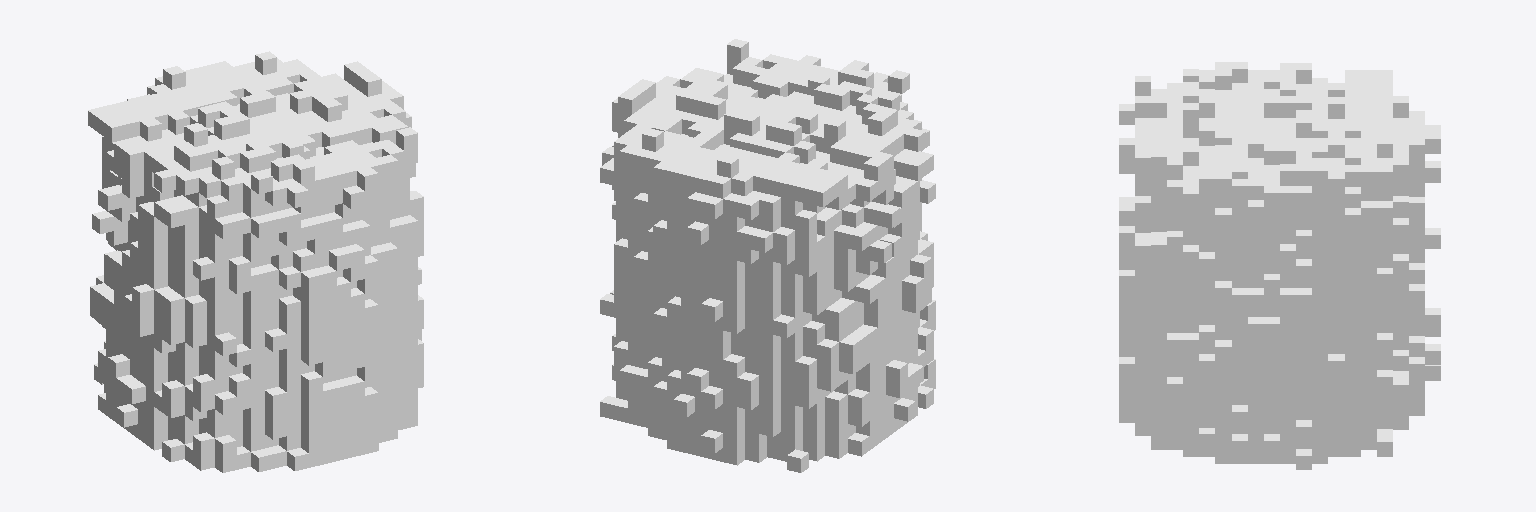
File: enemybulletmodel.obj
3 views of the same model, side by side, from view 1: azimuth 30°, elevation 25°; view 2: azimuth 150°, elevation 25°; view 3: azimuth 270°, elevation 25° (orthographic).
Size of the model in its own units: 20 by 20 by 20.